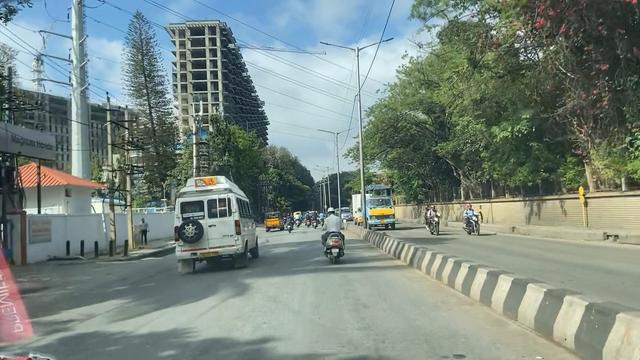HMV: (172, 181, 268, 269)
LMV: (312, 210, 348, 268)
